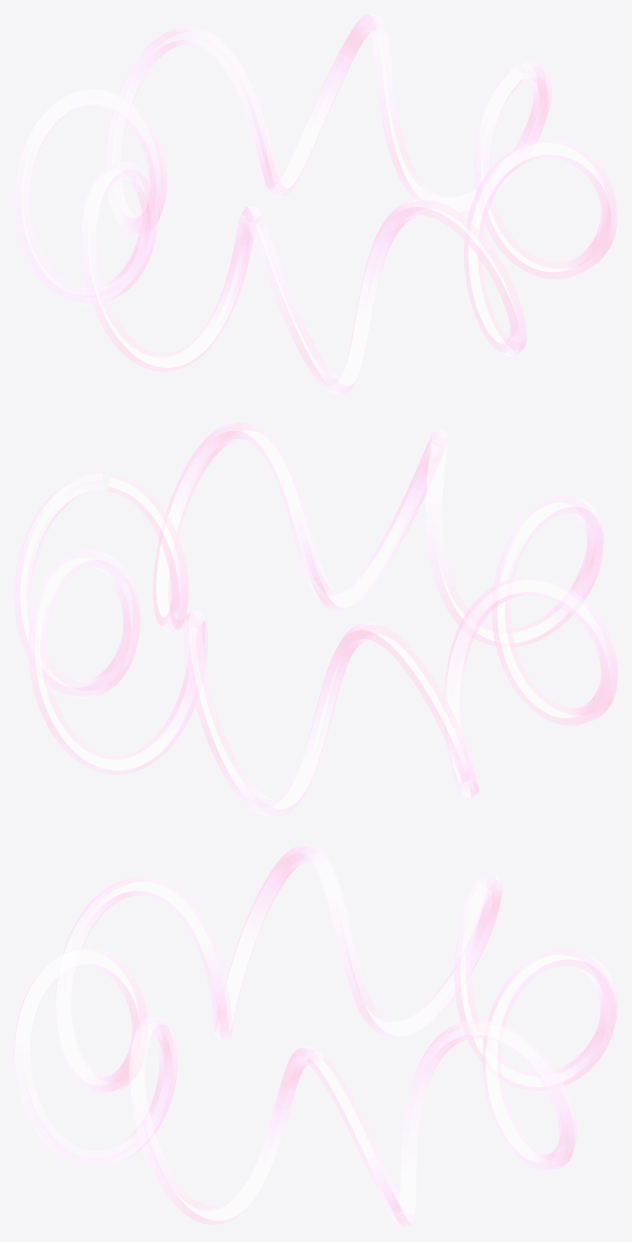
File: gen0002-protean-hybrid.glb
The picture shows the model from 3 angles, top to bottom: view 1: azimuth 30°, elevation 25°; view 2: azimuth 150°, elevation 25°; view 3: azimuth 270°, elevation 25°; orthographic projection. The views are drawn at different scales.
Visible parts, largest first — view 1: protean_path; view 2: protean_path; view 3: protean_path.
Part boxes in pixels (x1=…): protean_path: x1=14, y1=14, x2=617, y2=393; protean_path: x1=14, y1=422, x2=617, y2=816; protean_path: x1=14, y1=845, x2=617, y2=1227.
Size of the model in its own units: 0.3267 by 0.1068 by 0.3263.
